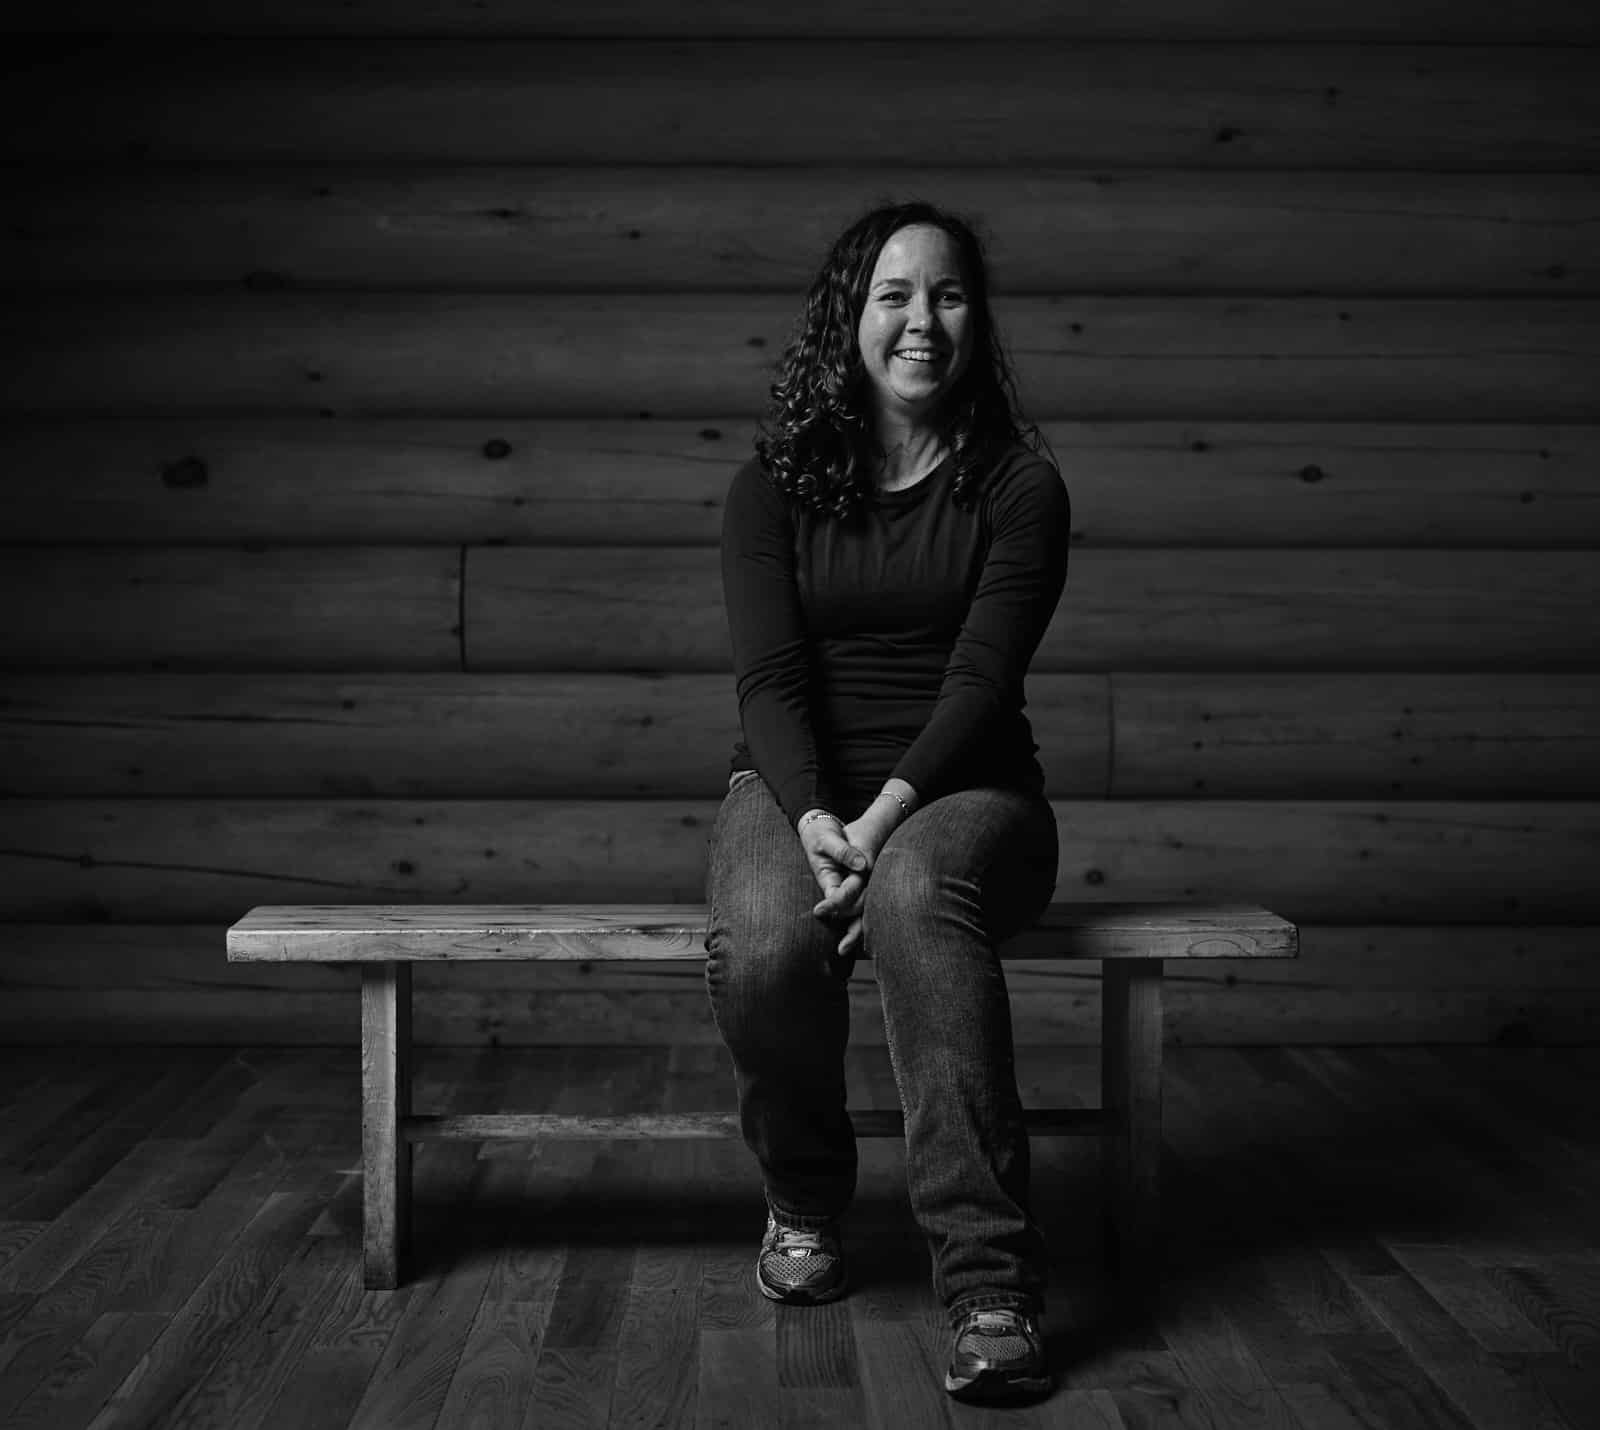Person: (710, 196, 1073, 1409)
